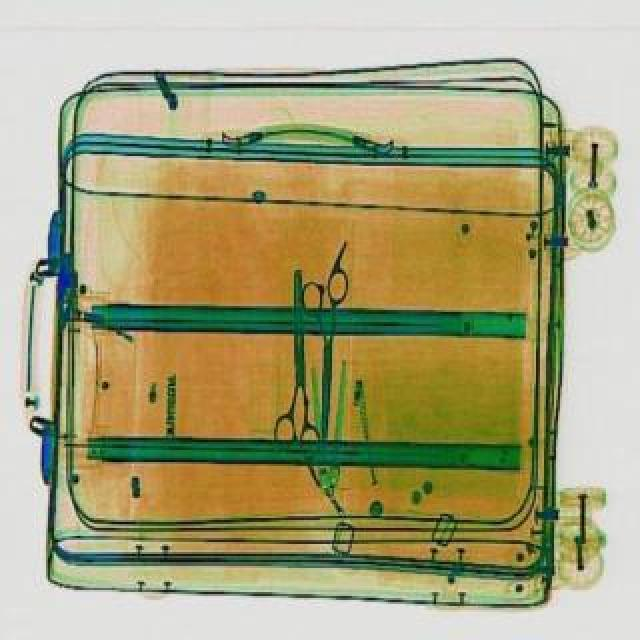pliers: (292, 266, 348, 438), (272, 270, 320, 460)
